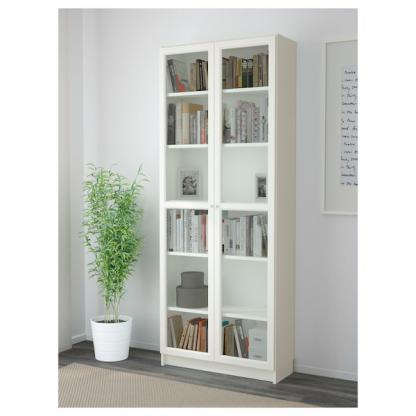lamp: (157, 33, 302, 387)
